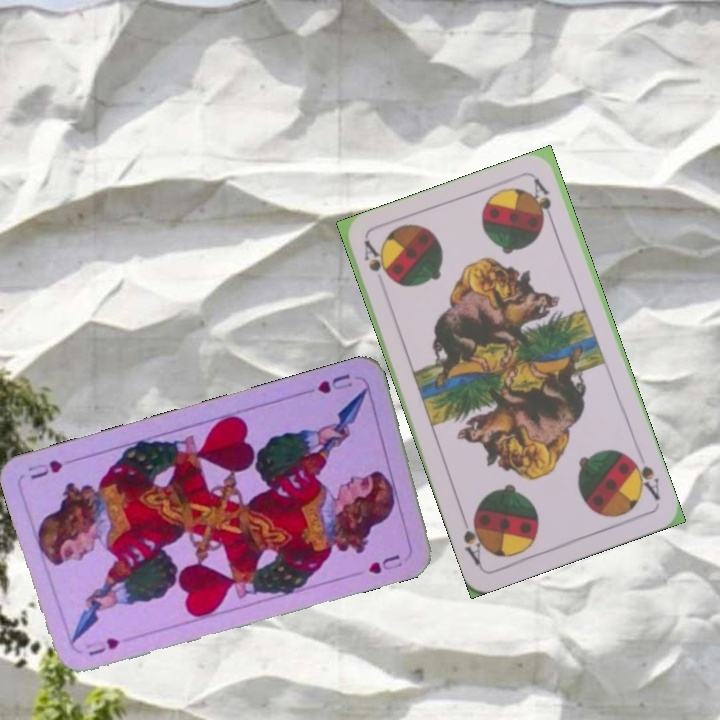HU: (313, 370, 355, 396), (81, 633, 123, 659)
SA: (625, 451, 663, 503), (359, 237, 393, 283)
